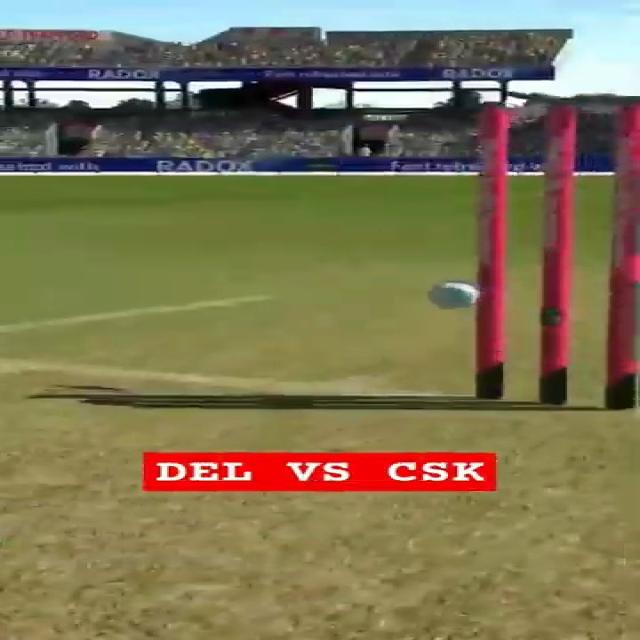ball: (428, 278, 480, 308)
